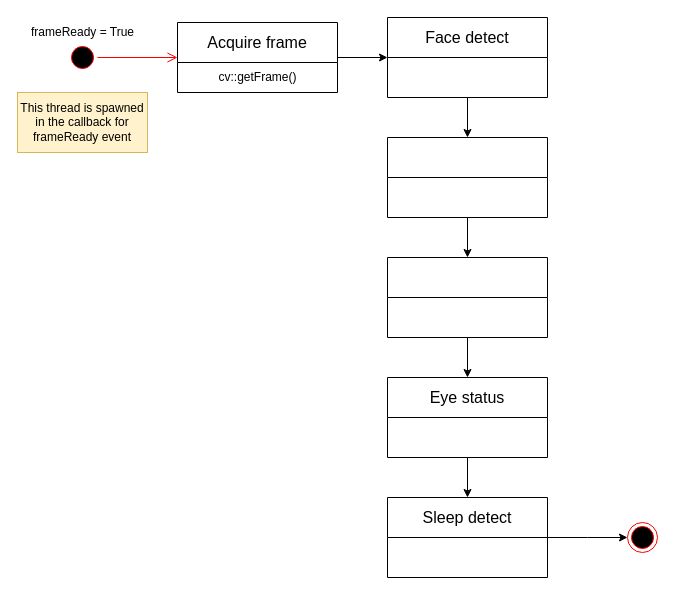
Image size: 675x595. Some labels were removed from this diagram. The centre of each missing label's shape, as x and y in pixels:
"Eye detect" goes at (467,177).
"Filter data" goes at (467,297).
